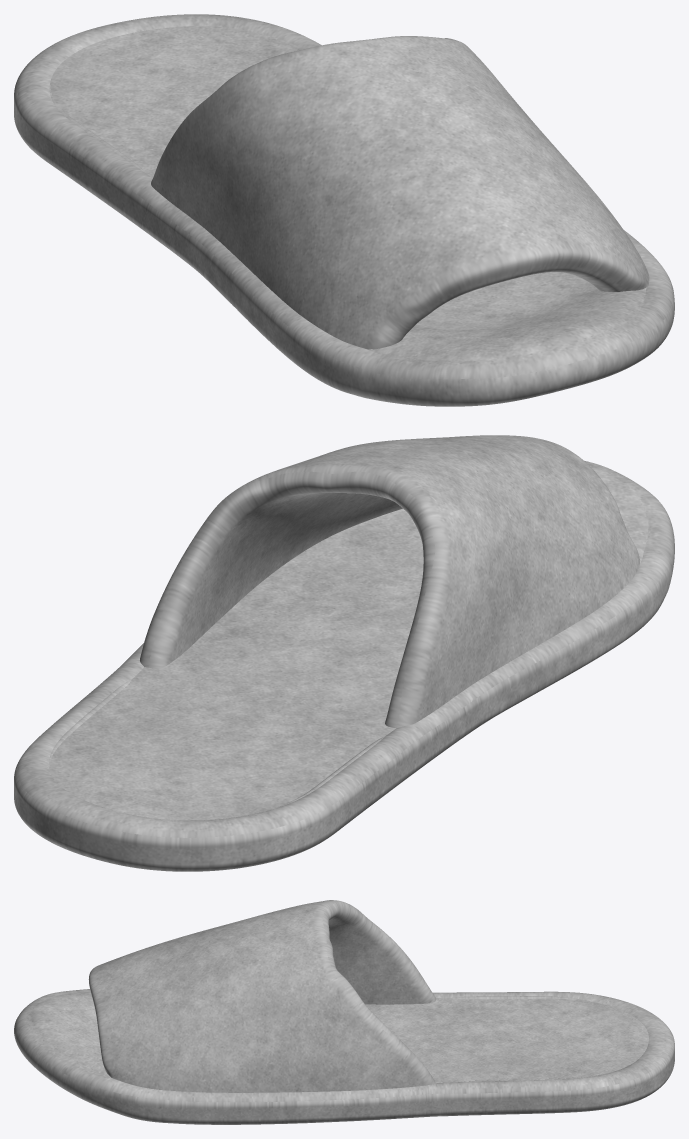
File: pantoufle-ouverte.glb
3 views of the same model, one above another, from view 1: azimuth 30°, elevation 25°; view 2: azimuth 150°, elevation 25°; view 3: azimuth 270°, elevation 25° (orthographic). The views are drawn at different scales.
Visible parts, largest first — view 1: otds_left; view 2: otds_left; view 3: otds_left.
Part boxes in pixels (x1,y1,x2,y2): otds_left: (14,14,674,406); otds_left: (14,435,674,871); otds_left: (14,900,674,1124).
Size of the model in its own units: 11.26 by 6.55 by 26.64.
1 material, 1 textured.
